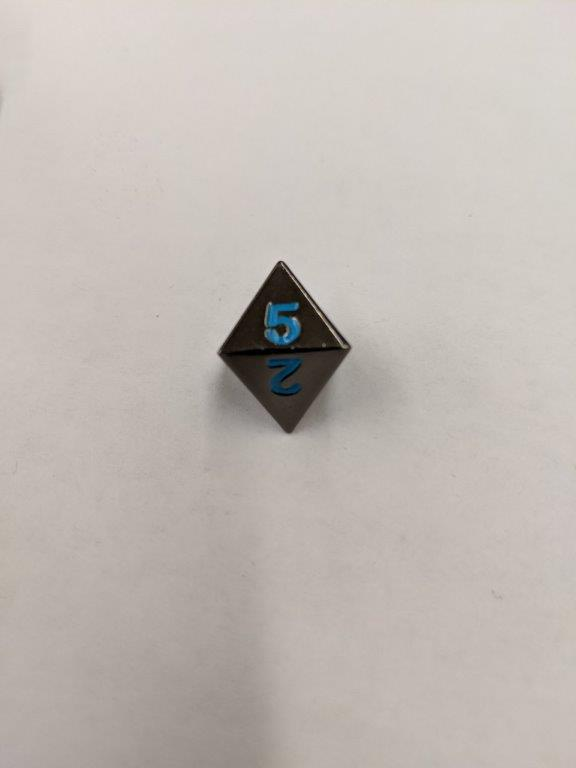d8-5: (214, 256, 353, 436)
